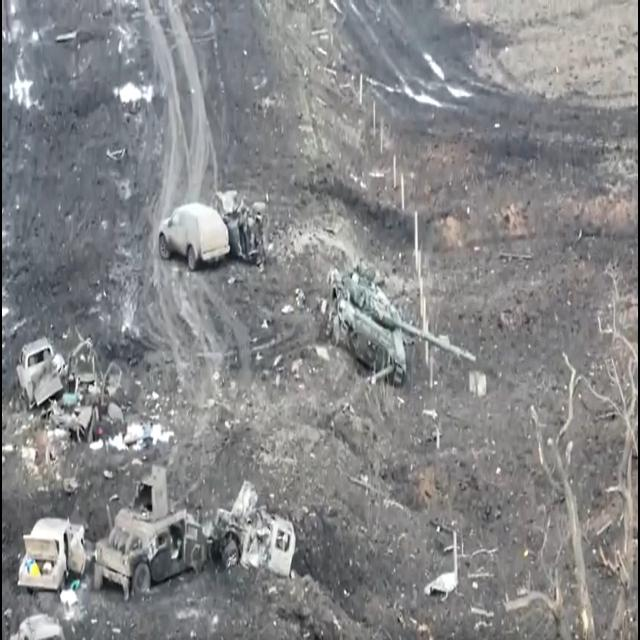Destroyed: (215, 488, 301, 589), (51, 335, 120, 443), (226, 189, 275, 265), (15, 336, 61, 406)
MBT: (322, 260, 480, 389)
Vehicle: (90, 468, 213, 599), (17, 507, 87, 598), (157, 200, 231, 281)
